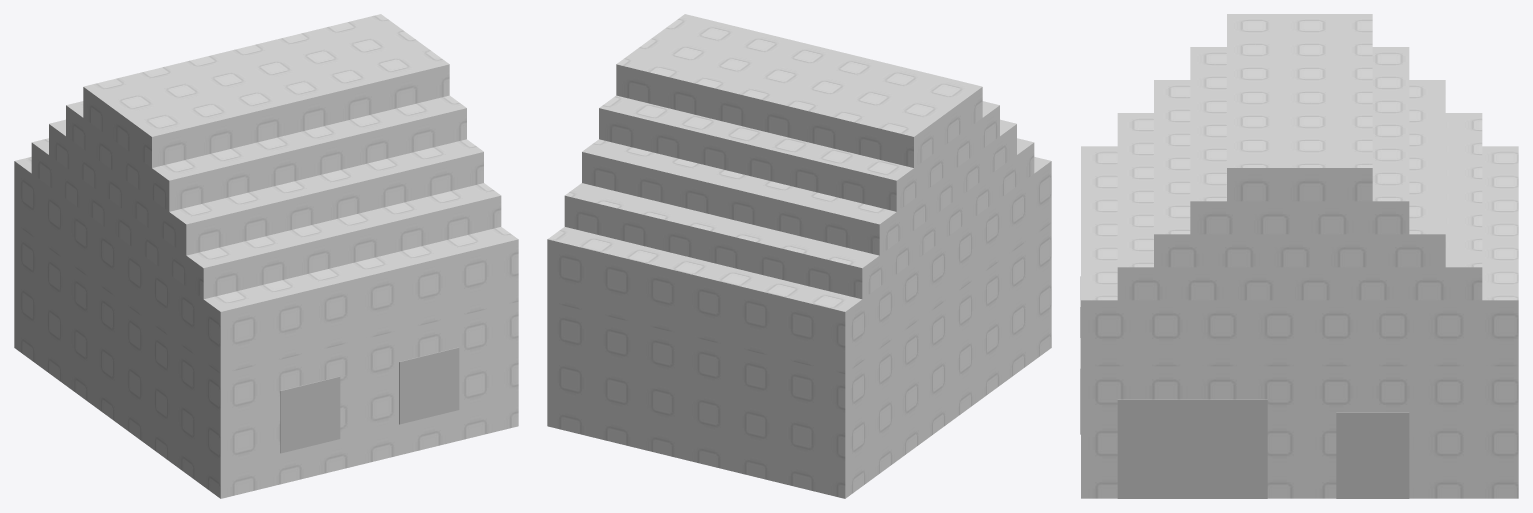
Rendered from 1FloorHouseB.FBX.
3 views of the same model, side by side, from view 1: azimuth 30°, elevation 25°; view 2: azimuth 150°, elevation 25°; view 3: azimuth 270°, elevation 25° (orthographic). The views are drawn at different scales.
Parts seen in each view (by area): view 1: wuding, qiang (×2); view 2: wuding, qiang; view 3: wuding, qiang, men2, men1.
Part boxes in pixels (bbox=[...]): wuding: bbox=[14, 14, 518, 373]; qiang (×2): bbox=[14, 223, 518, 498]; wuding: bbox=[547, 14, 1051, 373]; qiang: bbox=[547, 223, 1051, 498]; wuding: bbox=[1081, 14, 1518, 366]; qiang: bbox=[1081, 366, 1518, 498]; men2: bbox=[1117, 399, 1267, 498]; men1: bbox=[1336, 412, 1409, 498].
Bounding box in the file's own units: 6.44 × 6.43 × 7.73.
